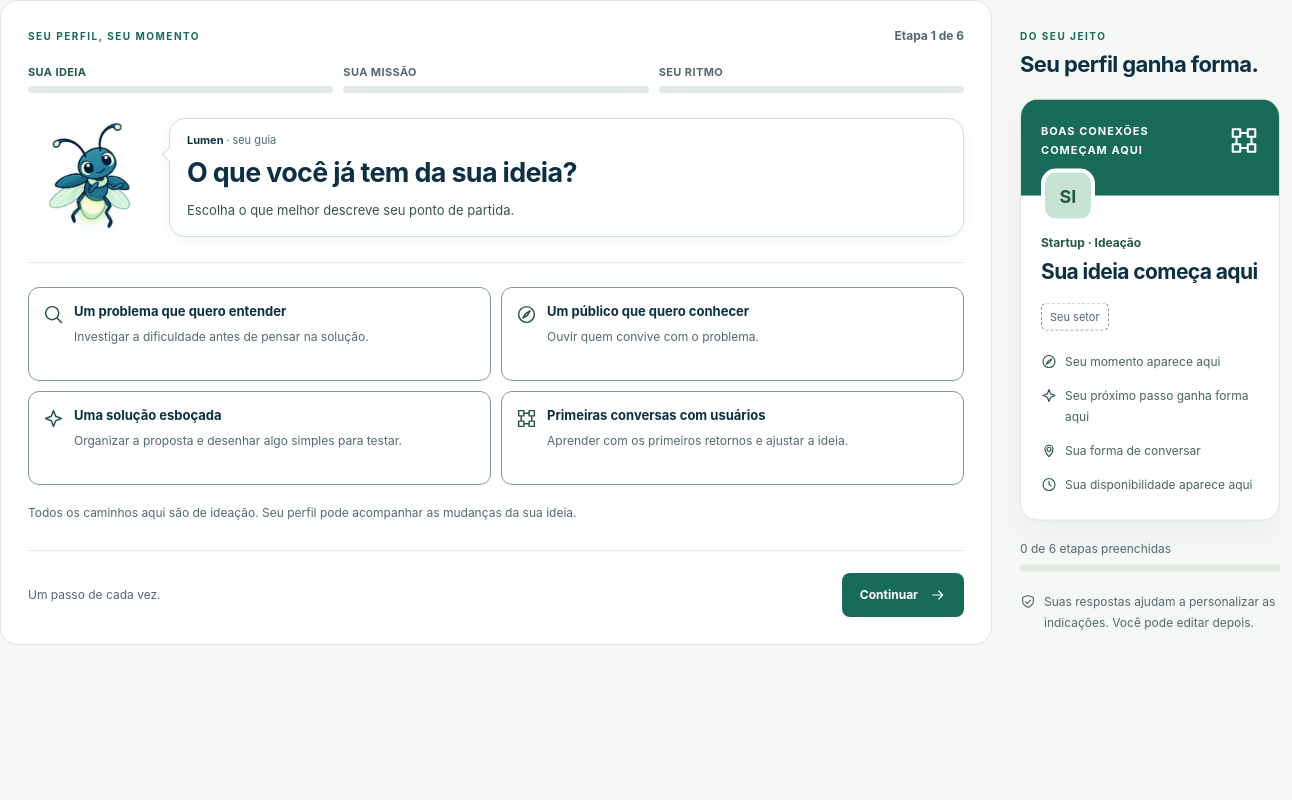
Test: Perfil em seis etapas e três fases com o Lumen › faz a pergunta no balão e orienta o foco quando falta uma resposta
The image size is (1292, 800).
Step 1. Click the button "Continuar" → coordinates (903, 595), box [842,573,964,617]
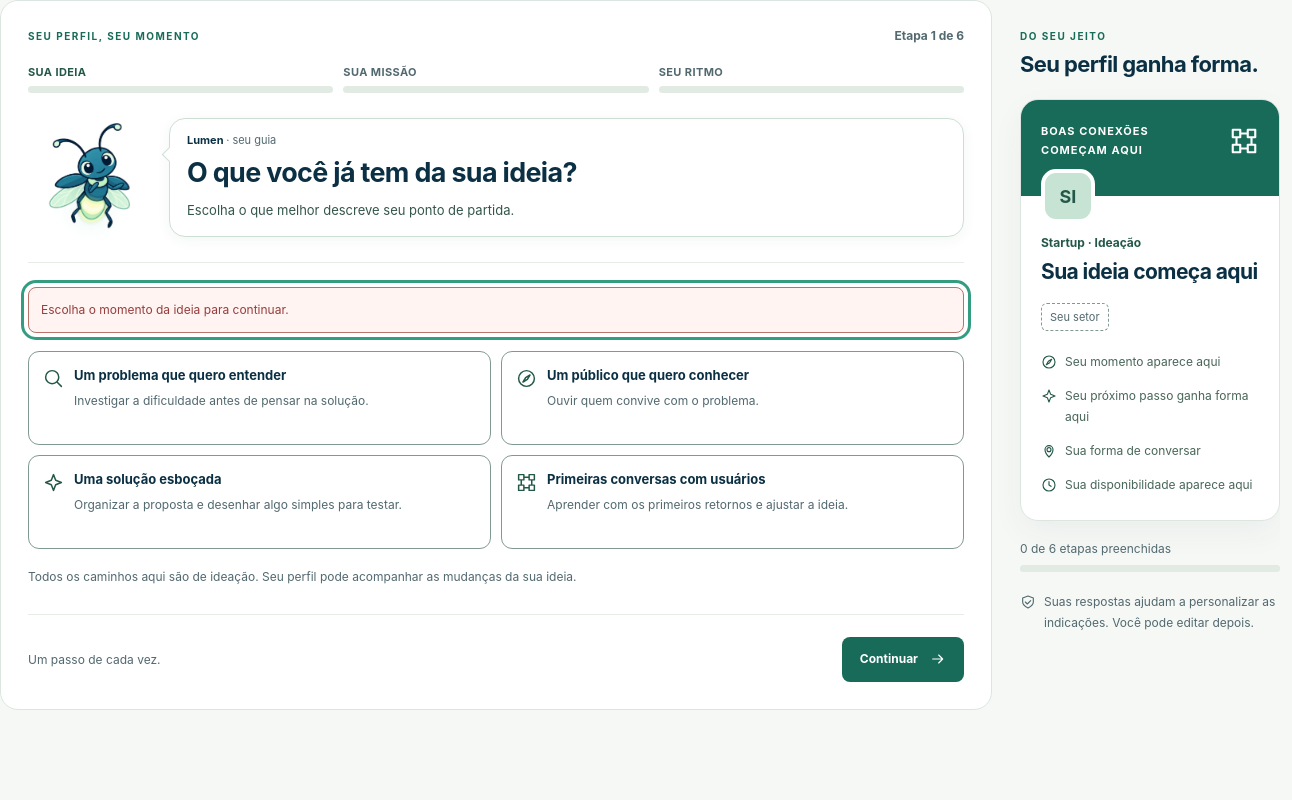
Now the message "Escolha o momento da ideia para continuar." is shown, box [28,287,964,333]
